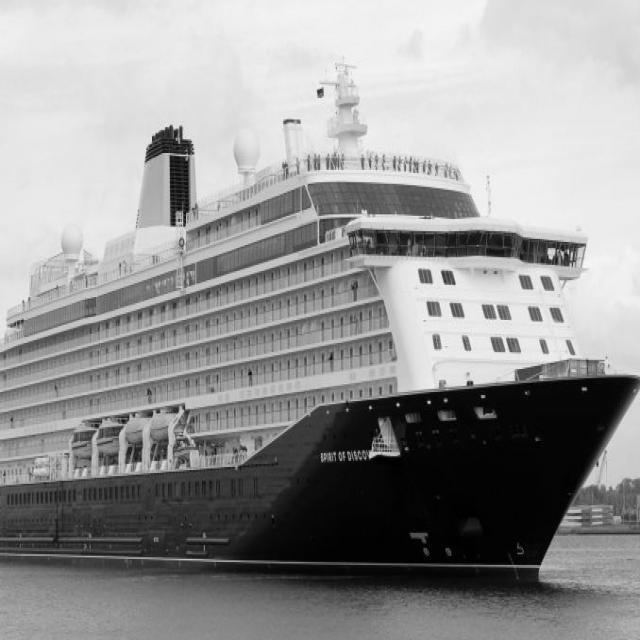cruises: (1, 52, 640, 617)
